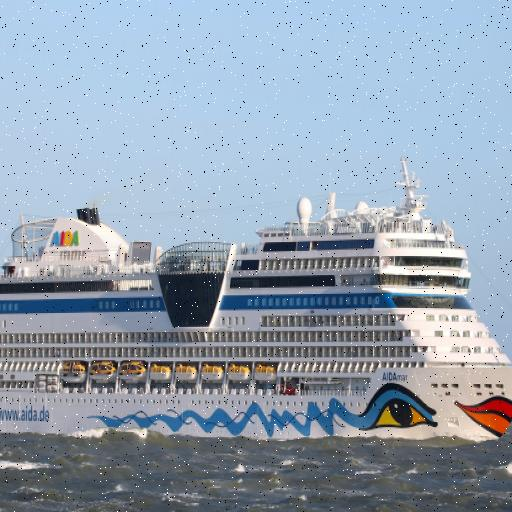cruises: (1, 156, 512, 449)
